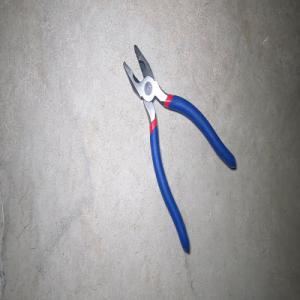Pliers: (122, 44, 236, 254)
